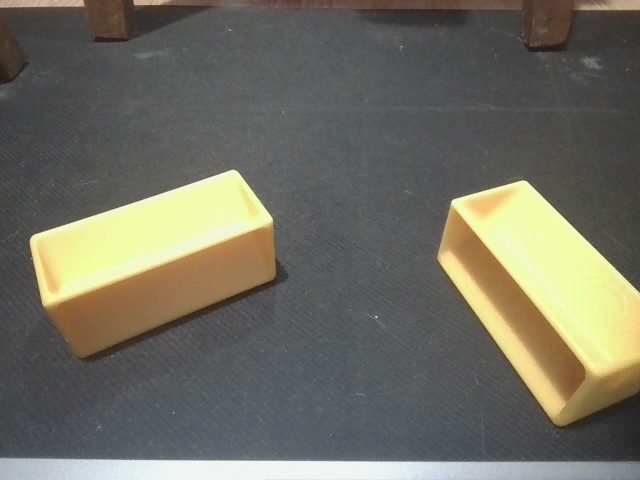YellowSample: (433, 176, 640, 435), (27, 165, 278, 364)
